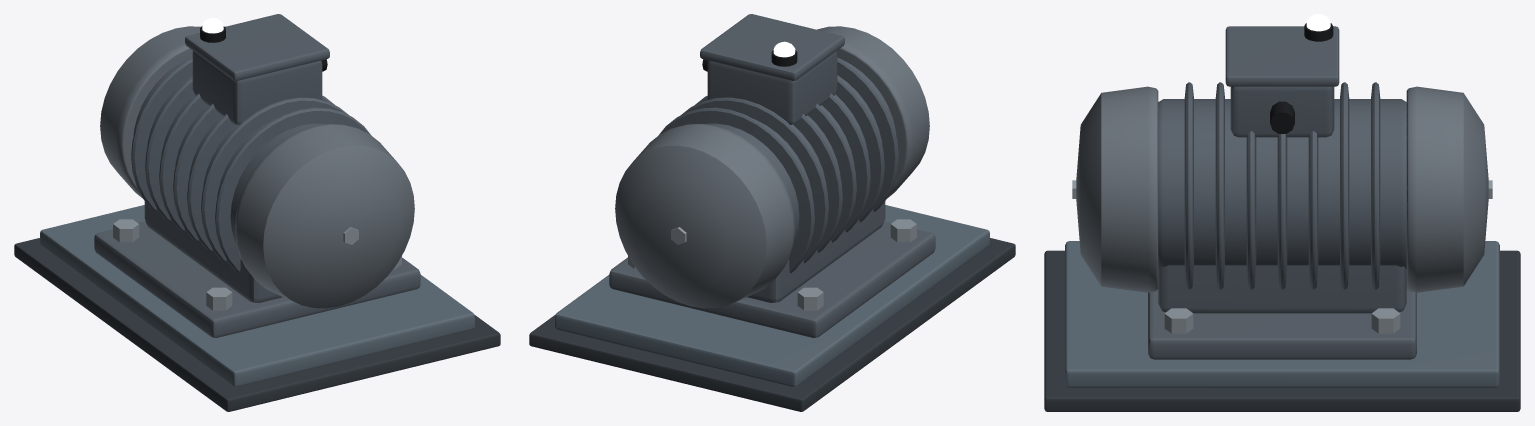
Rendered from vibrator_motor.glb.
The picture shows the model from 3 angles, left to right: view 1: azimuth 30°, elevation 25°; view 2: azimuth 150°, elevation 25°; view 3: azimuth 270°, elevation 25°; orthographic projection. The views are drawn at different scales.
Parts seen in each view (by area): view 1: SHAKE_motor, BODY_beam; view 2: SHAKE_motor, BODY_beam; view 3: SHAKE_motor, BODY_beam.
Part boxes in pixels (bbox=[...]): SHAKE_motor: bbox=[94, 14, 420, 337]; BODY_beam: bbox=[14, 205, 500, 411]; SHAKE_motor: bbox=[609, 14, 935, 337]; BODY_beam: bbox=[529, 205, 1015, 411]; SHAKE_motor: bbox=[1072, 26, 1492, 359]; BODY_beam: bbox=[1044, 241, 1520, 411].
Bounding box in the file's own units: 0.34 × 0.3286 × 0.46.
